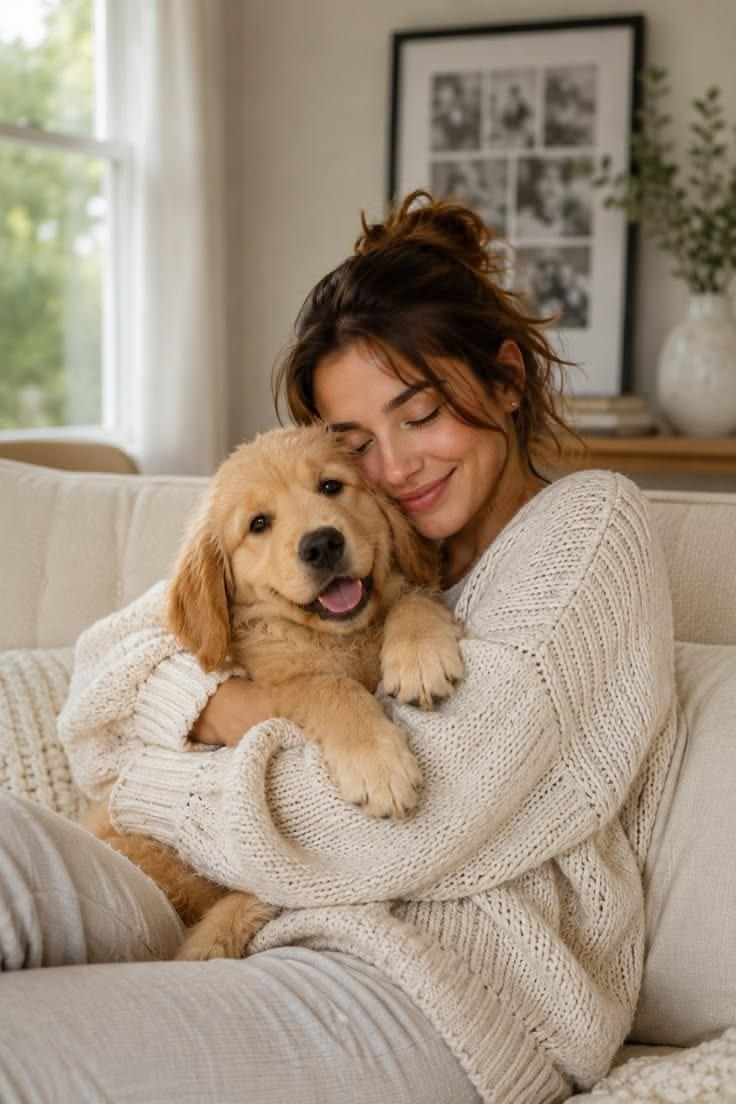non-dog: (1, 188, 684, 1103)
puppy-dog: (89, 420, 466, 962)
